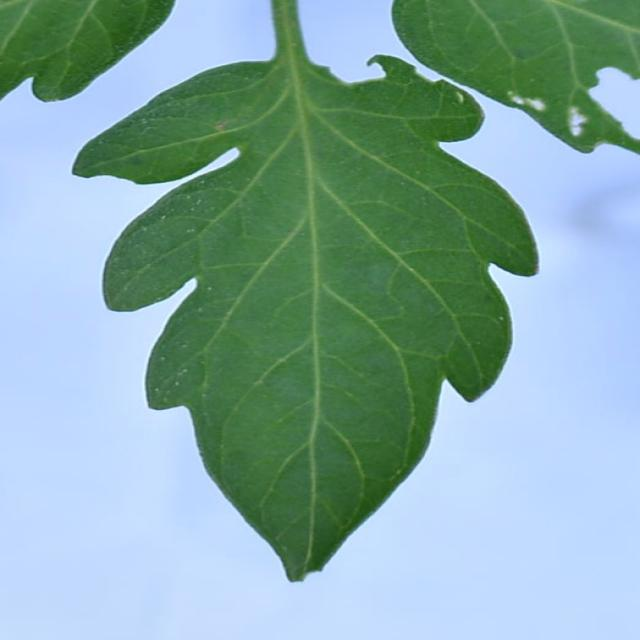healthy: (69, 62, 537, 582)
